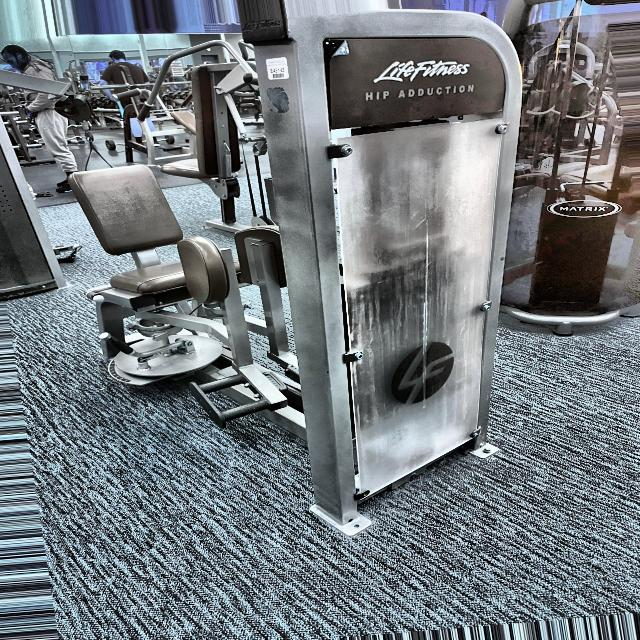hip_adduction_machine: (64, 121, 264, 452), (358, 71, 487, 126)
